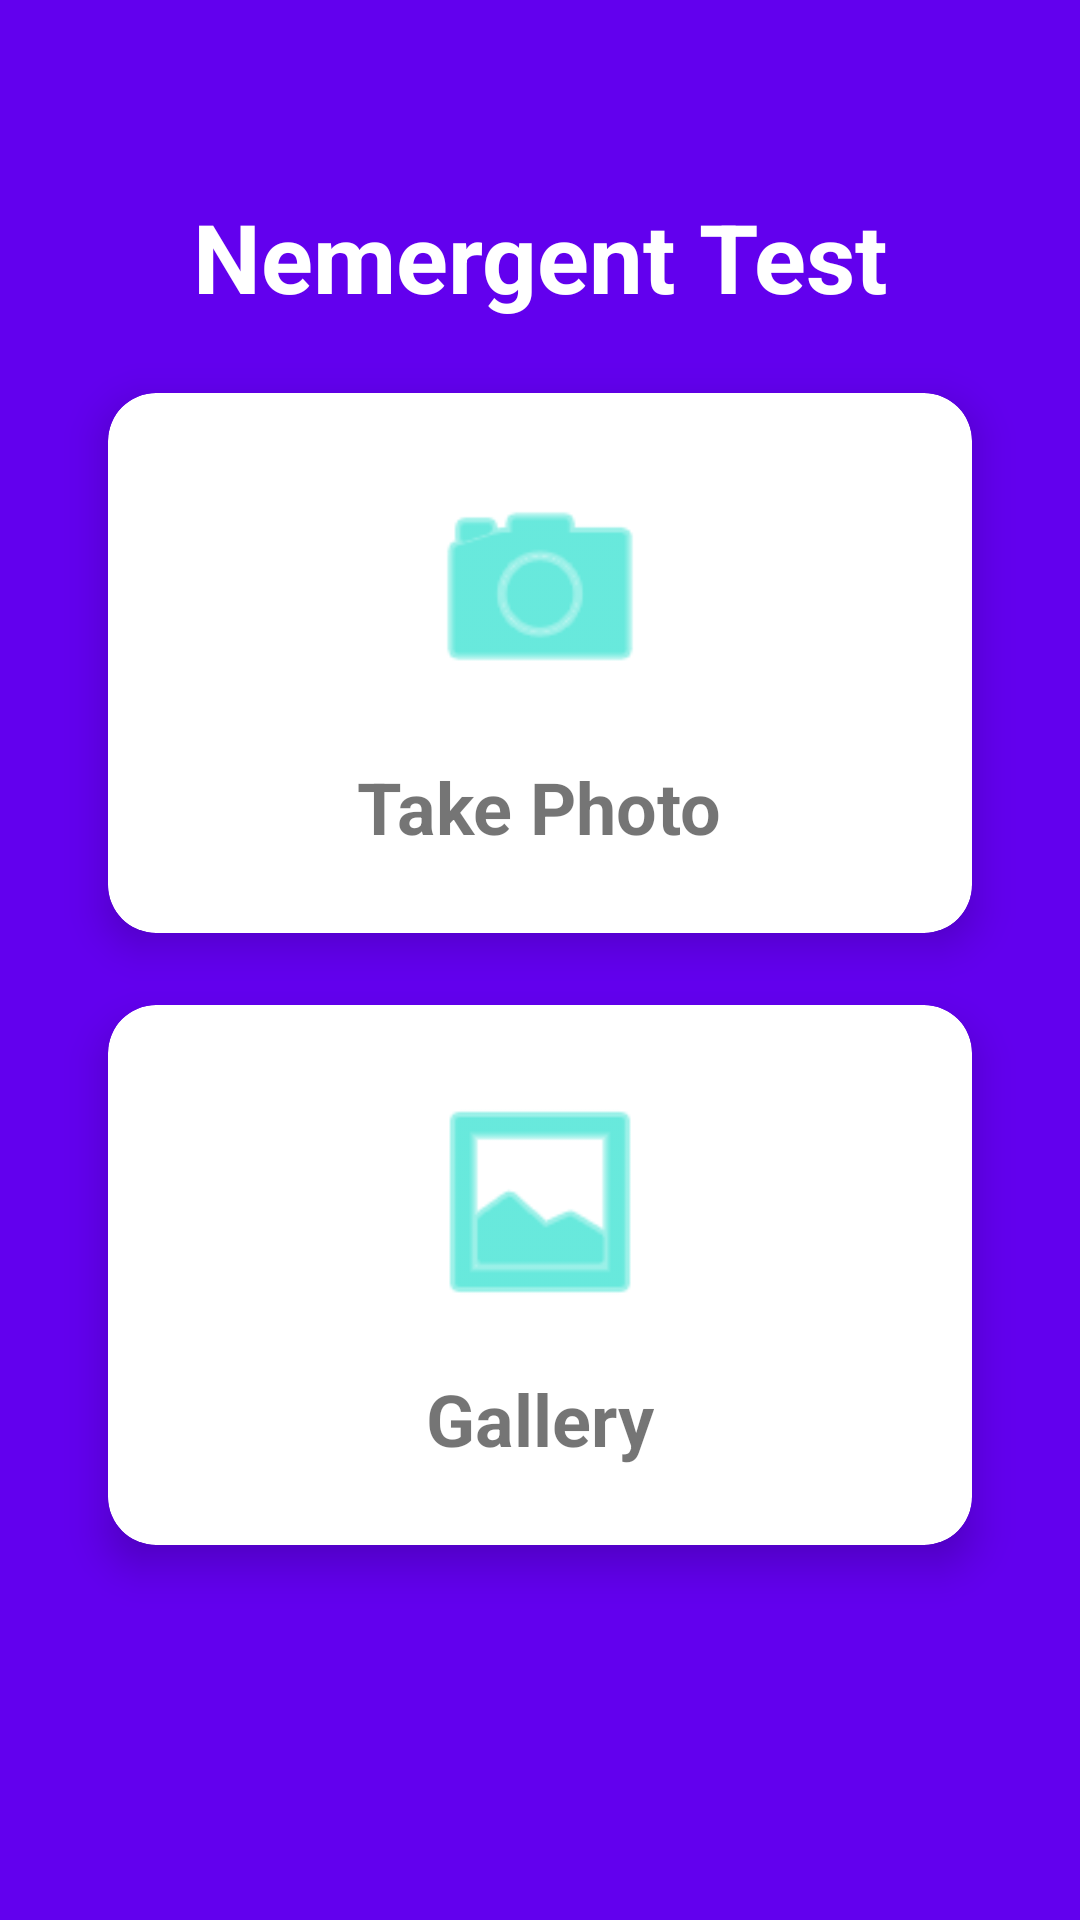

Icons on this 1080 × 1920 Android screen, each with the point to tap as (x=x, y=y):
camera: (x=540, y=586)
